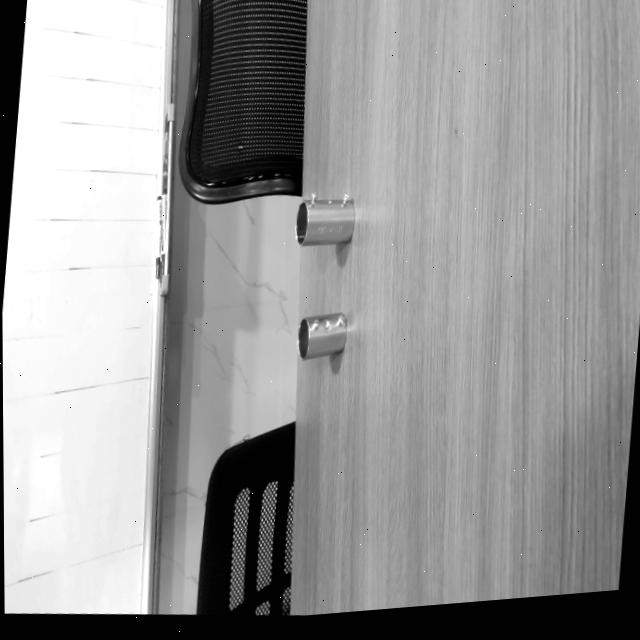Co_Lon: (294, 195, 356, 245)
Co_Nho: (293, 310, 351, 359)
